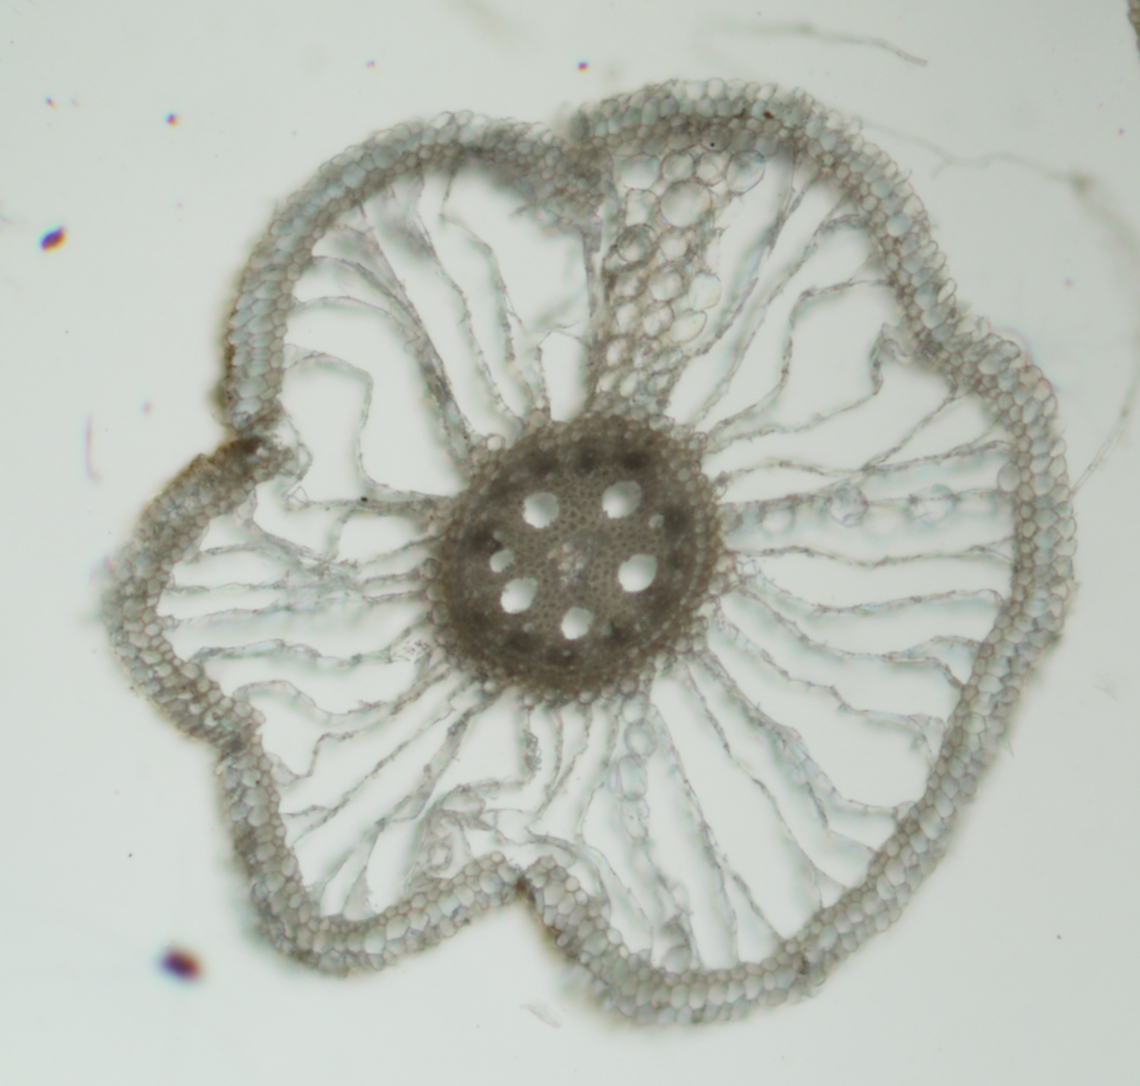lm: (601, 480, 643, 518), (618, 553, 657, 593), (499, 577, 539, 614), (522, 491, 560, 528), (561, 607, 593, 640), (489, 549, 515, 573)
